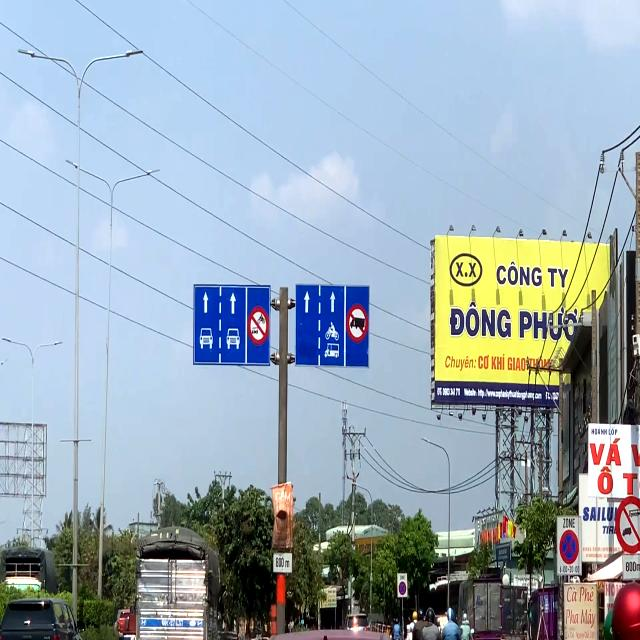P.130: (560, 530, 580, 564), (398, 581, 406, 595)
